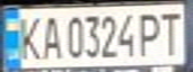0: (63, 11, 84, 60)
2: (100, 10, 121, 58)
3: (81, 11, 103, 60)
4: (115, 9, 139, 58)
A: (36, 11, 63, 61)
K: (12, 12, 45, 62)
P: (136, 9, 166, 57)
T: (154, 8, 187, 56)
